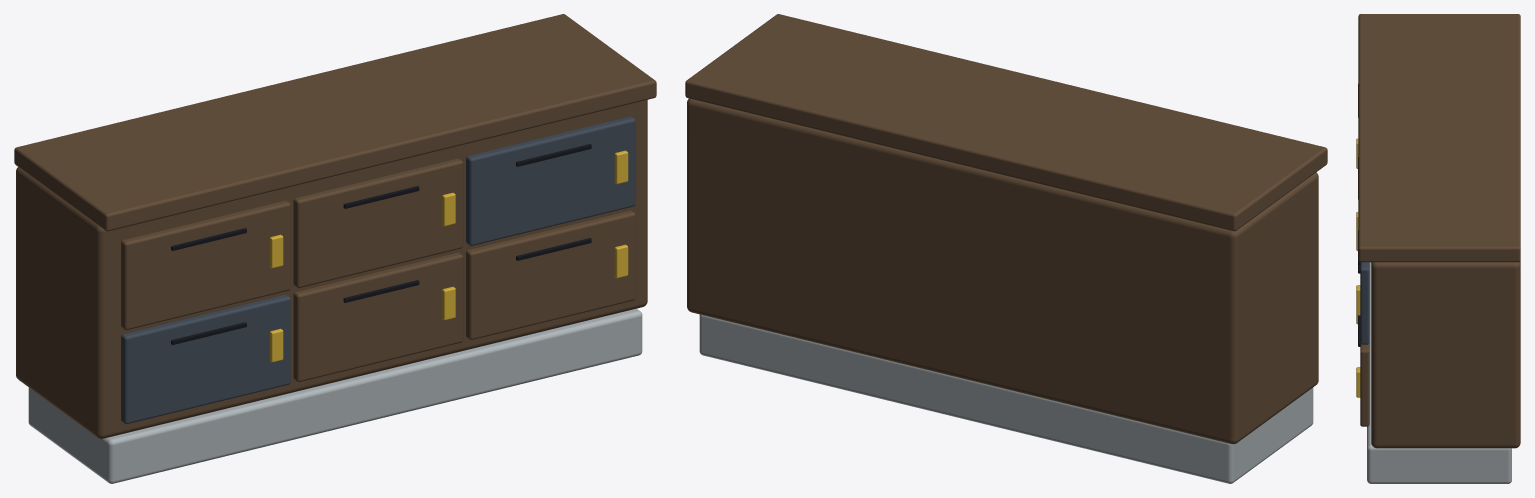
The model's file is campus-storage-low-slate.glb.
3 views of the same model, side by side, from view 1: azimuth 30°, elevation 25°; view 2: azimuth 150°, elevation 25°; view 3: azimuth 270°, elevation 25° (orthographic). The views are drawn at different scales.
Bounding box in the file's own units: 1.3 × 0.624 × 0.385.
